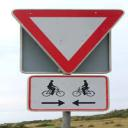preferencia: (8, 5, 126, 76)
